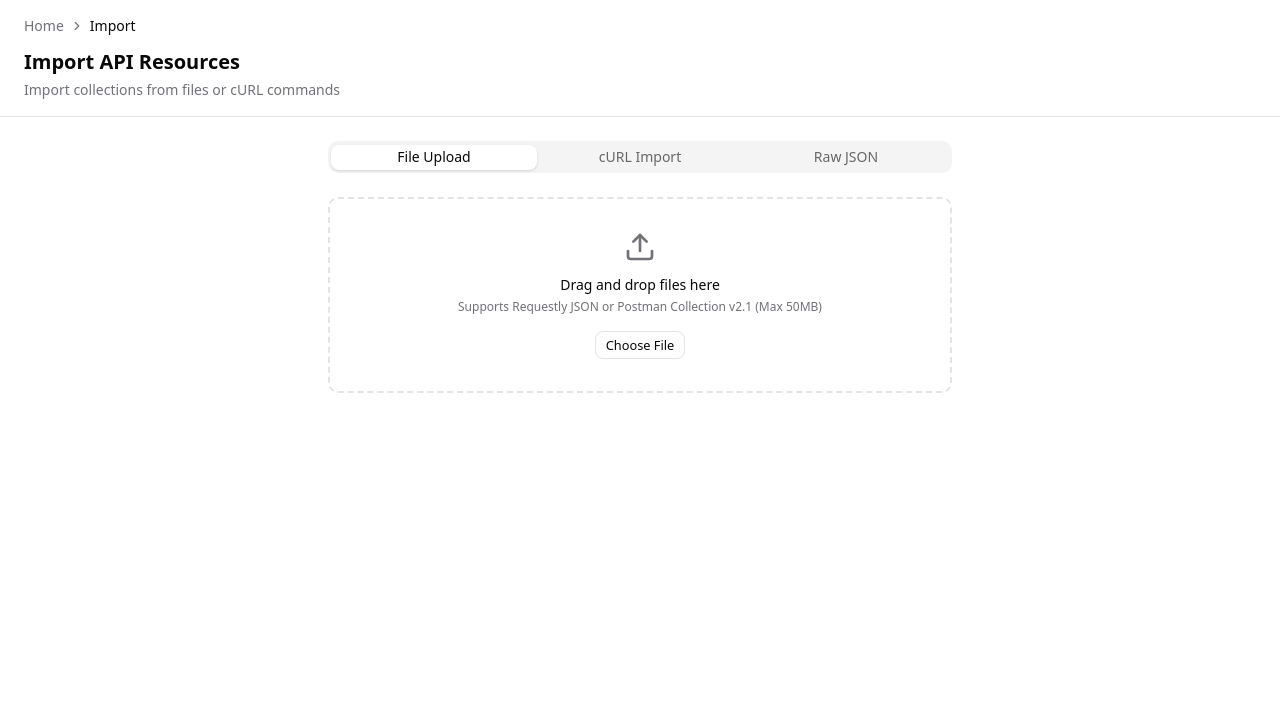
ImportPage › shows cURL parse error for invalid cURL
The width and height of the screenshot is (1280, 720).
Click the tab "cURL Import": (640, 157) [537,144,743,170]
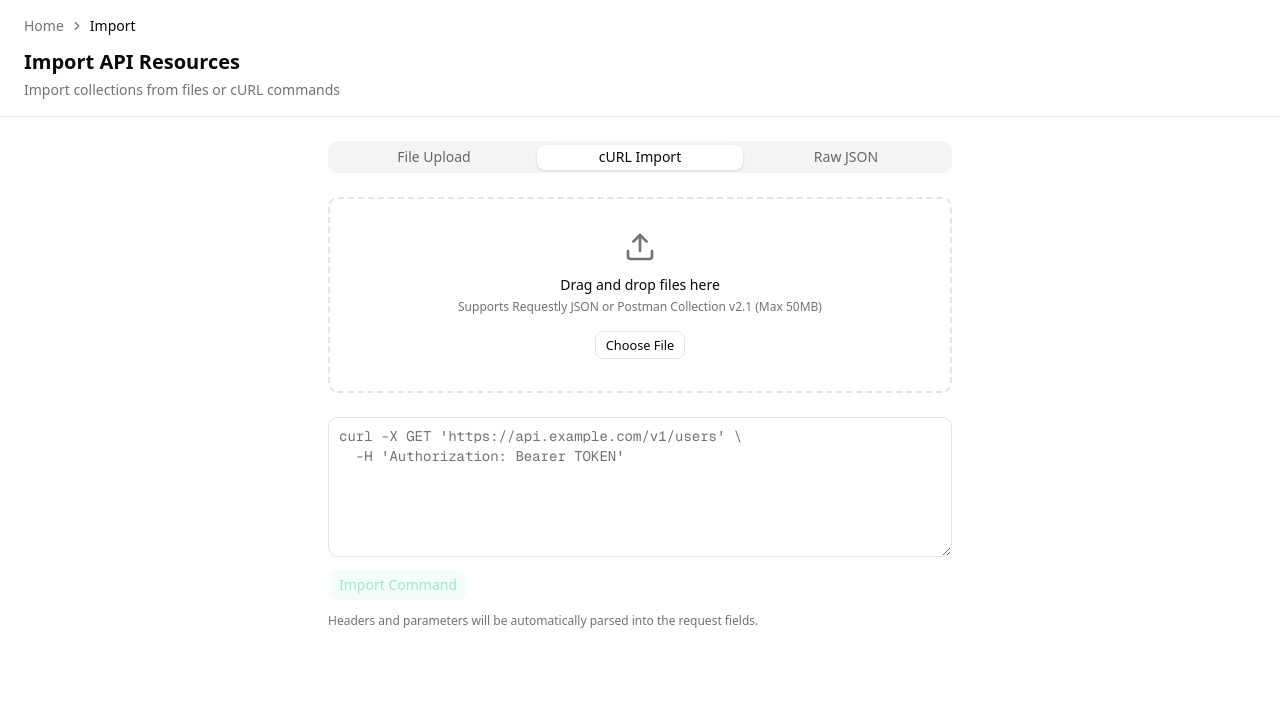
Replace the text in the text box named "cURL command to import" with "not a curl command": (640, 487) [328,417,952,557]
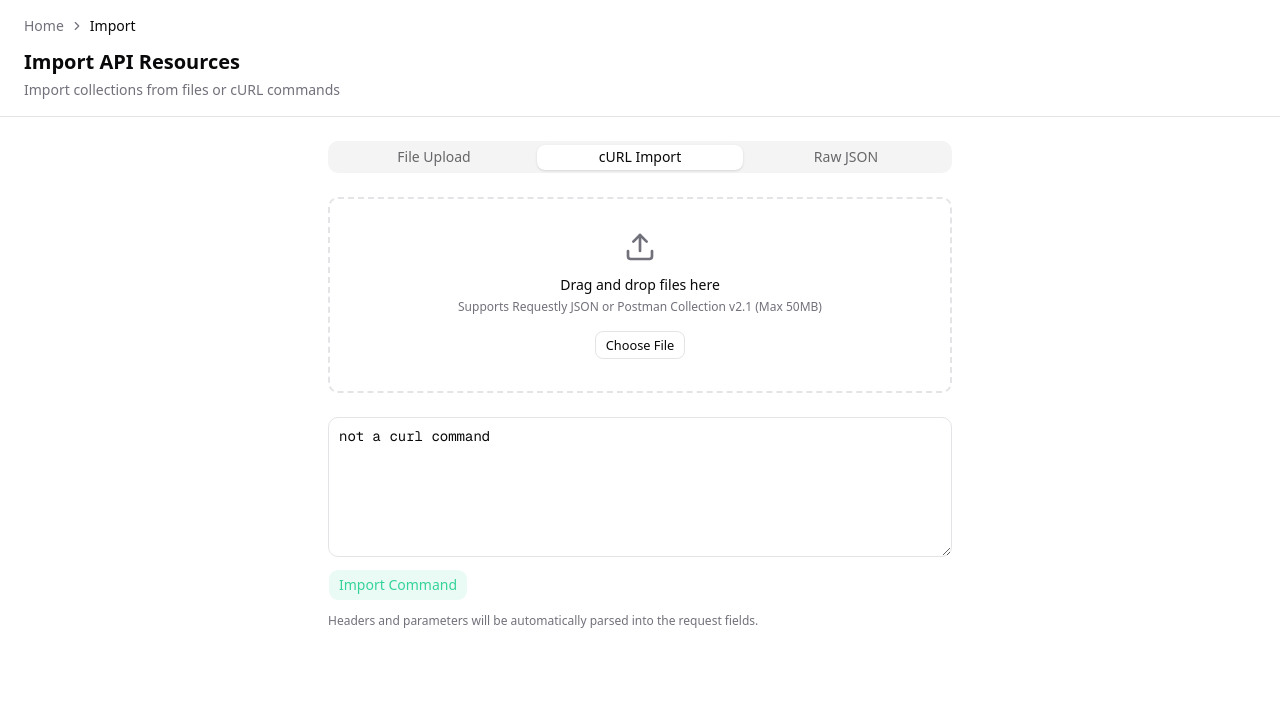
Click the button "Import Command": (398, 585) [328,569,468,601]
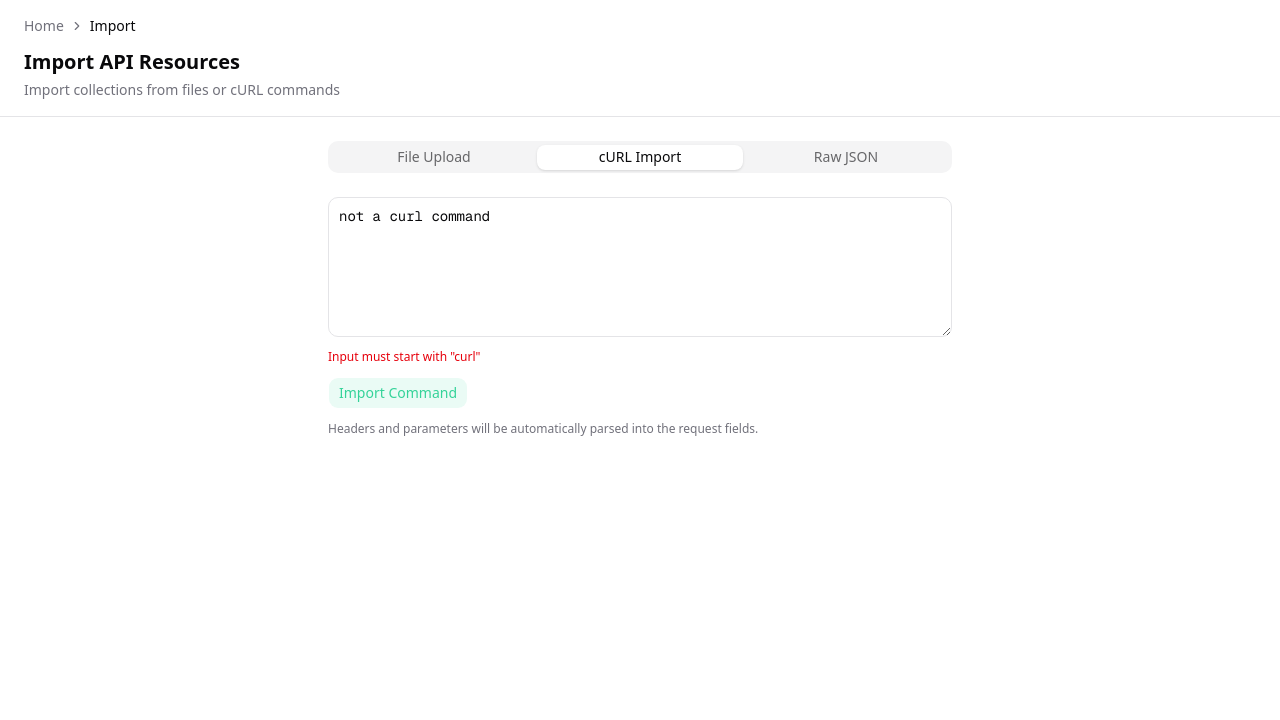
Check: the text "Input must start with \"curl\"" is shown, box [328,348,480,365]
